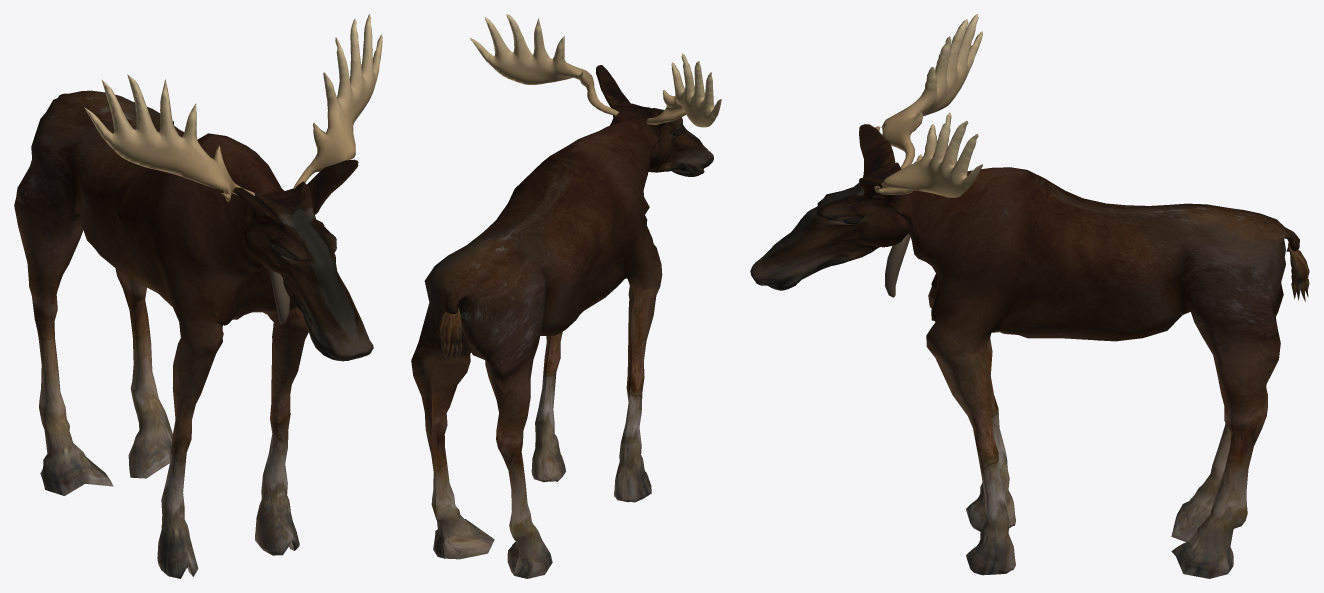
File: moose-from-horse-static.glb
3 views of the same model, side by side, from view 1: azimuth 30°, elevation 25°; view 2: azimuth 150°, elevation 25°; view 3: azimuth 270°, elevation 25° (orthographic). The views are drawn at different scales.
Parts seen in each view (by area): view 1: Plane, Moose_antler_0, Moose_antler_1, Moose_throat_bell; view 2: Plane, Moose_antler_1, Moose_antler_0, BezierCurve.005_Mesh.005; view 3: Plane, Moose_antler_0, Moose_antler_1, BezierCurve.005_Mesh.005, Moose_throat_bell.
Part boxes in pixels (x1,y1,x2,y2): Plane: (14,90,373,578); Moose_antler_0: (84,74,254,201); Moose_antler_1: (293,14,382,188); Moose_throat_bell: (270,271,290,324); Plane: (411,65,713,578); Moose_antler_1: (470,14,618,116); Moose_antler_0: (646,53,721,127); BezierCurve.005_Mesh.005: (437,308,462,364); Plane: (750,124,1299,578); Moose_antler_0: (875,14,982,169); Moose_antler_1: (874,112,982,197); BezierCurve.005_Mesh.005: (1288,243,1309,302); Moose_throat_bell: (884,233,910,297).
Bounding box in the file's own units: 1.73 × 2.92 × 3.08.
Materials: 5 (2 with a texture image).
